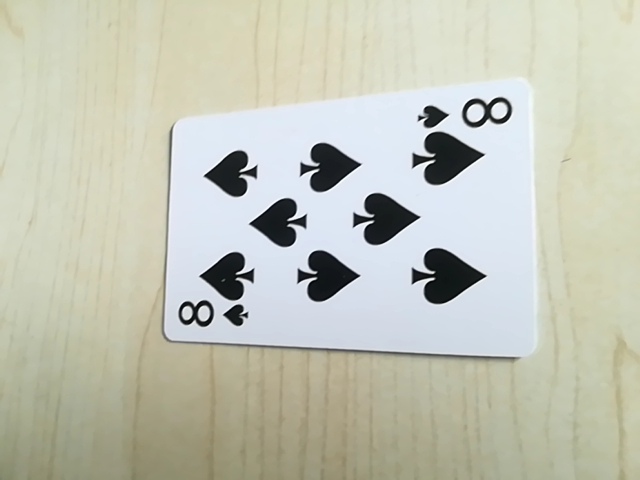ht 8: (414, 89, 518, 134), (169, 295, 250, 337)
